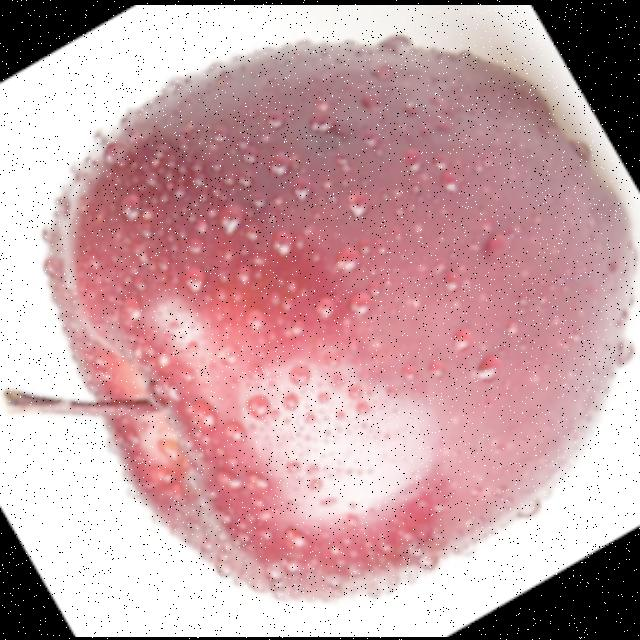Apel Segar: (32, 27, 640, 619)
